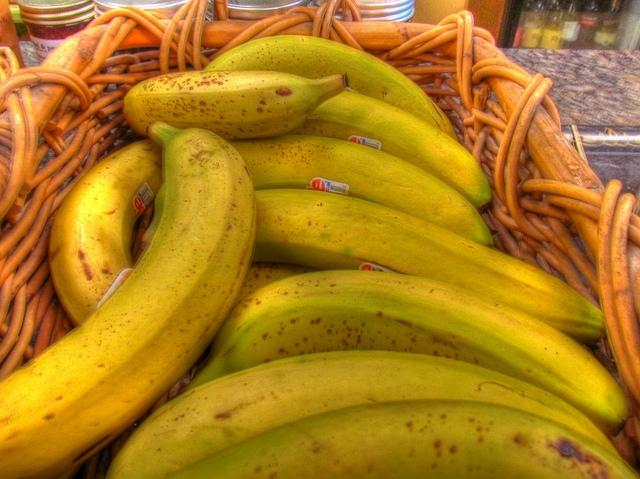banana: (0, 121, 257, 479), (178, 269, 630, 436), (106, 350, 638, 478), (252, 188, 606, 344), (140, 135, 494, 250), (164, 399, 640, 479), (203, 35, 459, 143), (281, 91, 493, 215), (48, 138, 164, 326), (123, 70, 349, 141), (236, 262, 330, 308)
